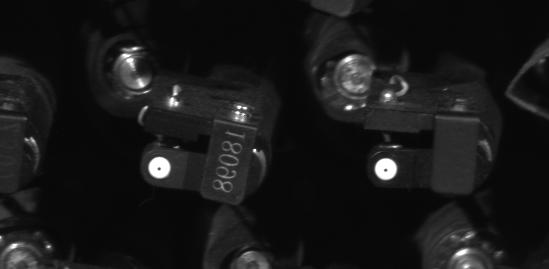fiber: (142, 149, 176, 182), (372, 155, 404, 186)
